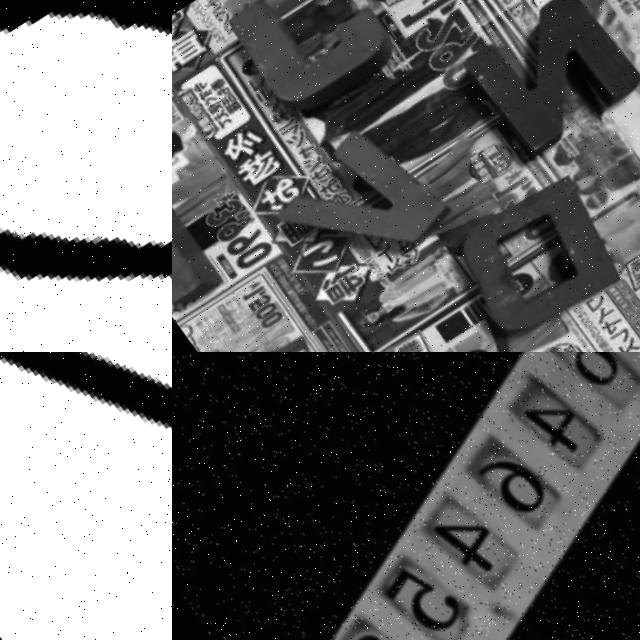0: (533, 352, 640, 411)
3: (311, 586, 439, 640)
4: (399, 462, 527, 599), (490, 352, 610, 473)
5: (354, 520, 483, 640)
6: (443, 400, 575, 542)
7: (0, 352, 172, 640)
D: (429, 152, 627, 347)
J: (208, 0, 406, 135)
N: (444, 0, 640, 164)
V: (248, 95, 458, 302)
